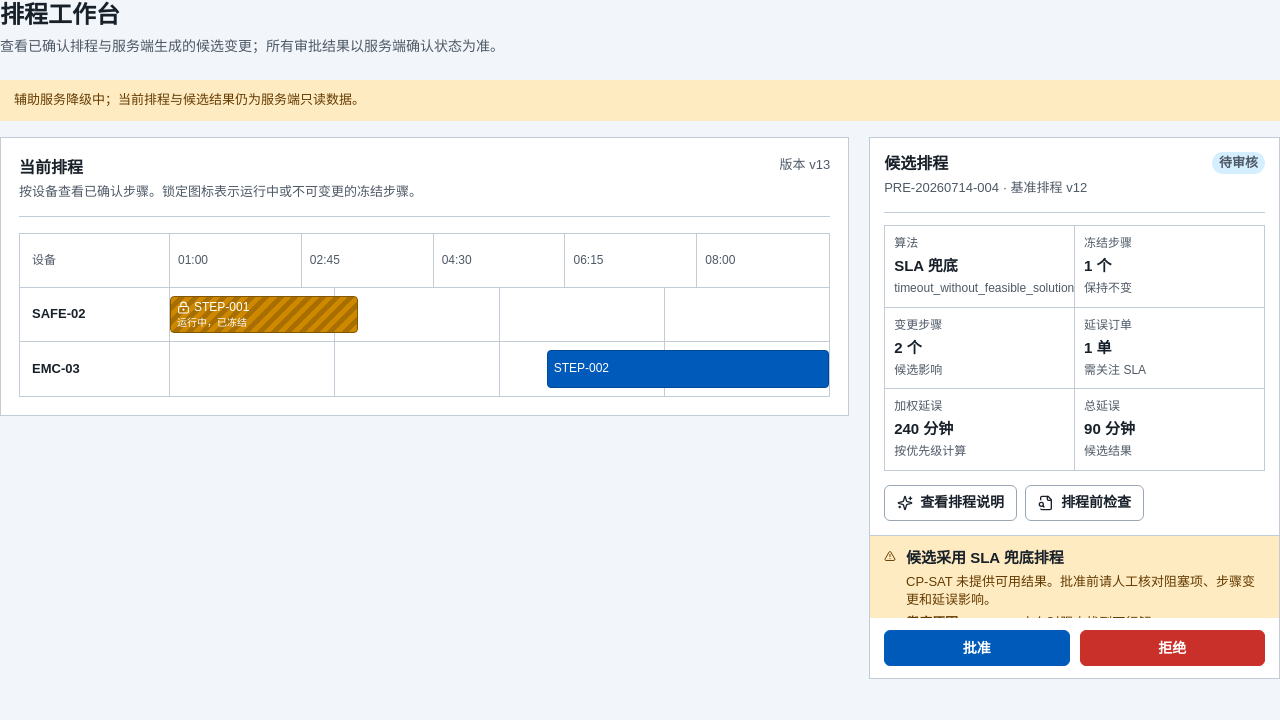
Test: SchedulingPage › keeps reject confirmation modal focus contained and restores the trigger on Escape
Click the button with aria-label "拒绝候选排程": point(1172, 648) [1080,630,1265,666]
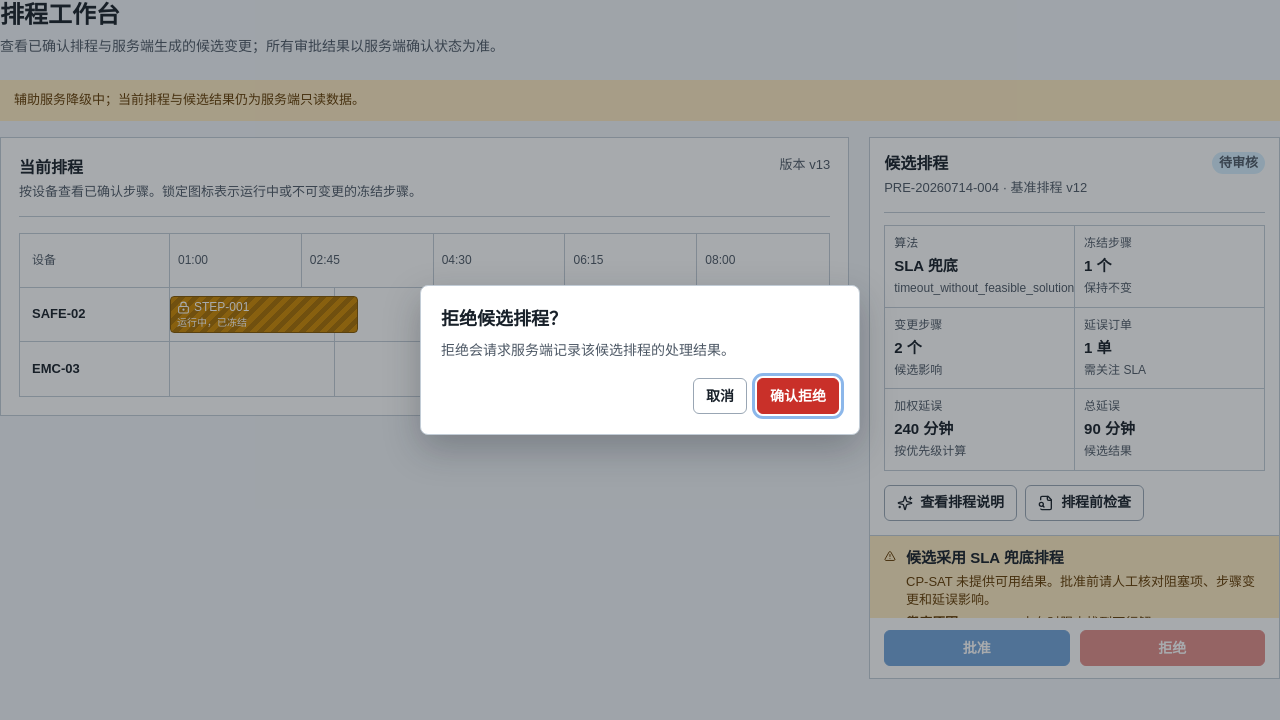
Result: the button with aria-label "批准候选排程" is disabled at [884,630,1070,666]
Press Tab in the dialog, box [420,285,860,435]
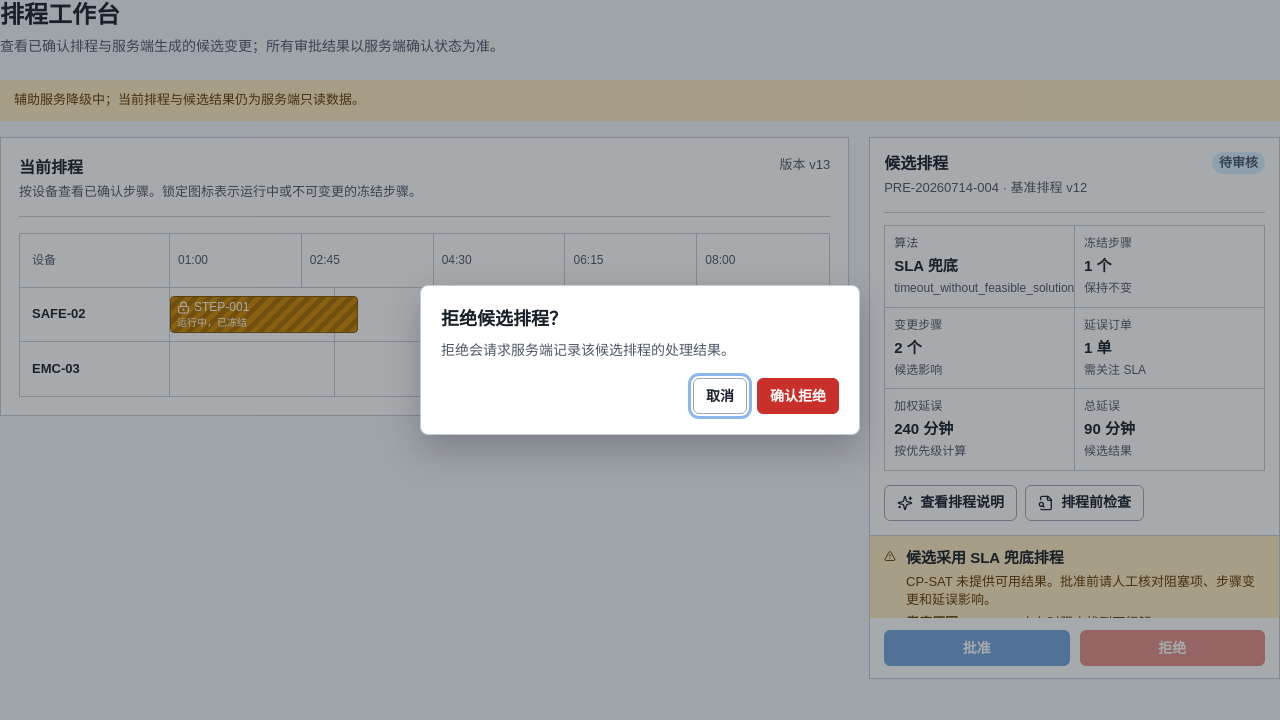
Press Tab in the dialog, box [420,285,860,435]
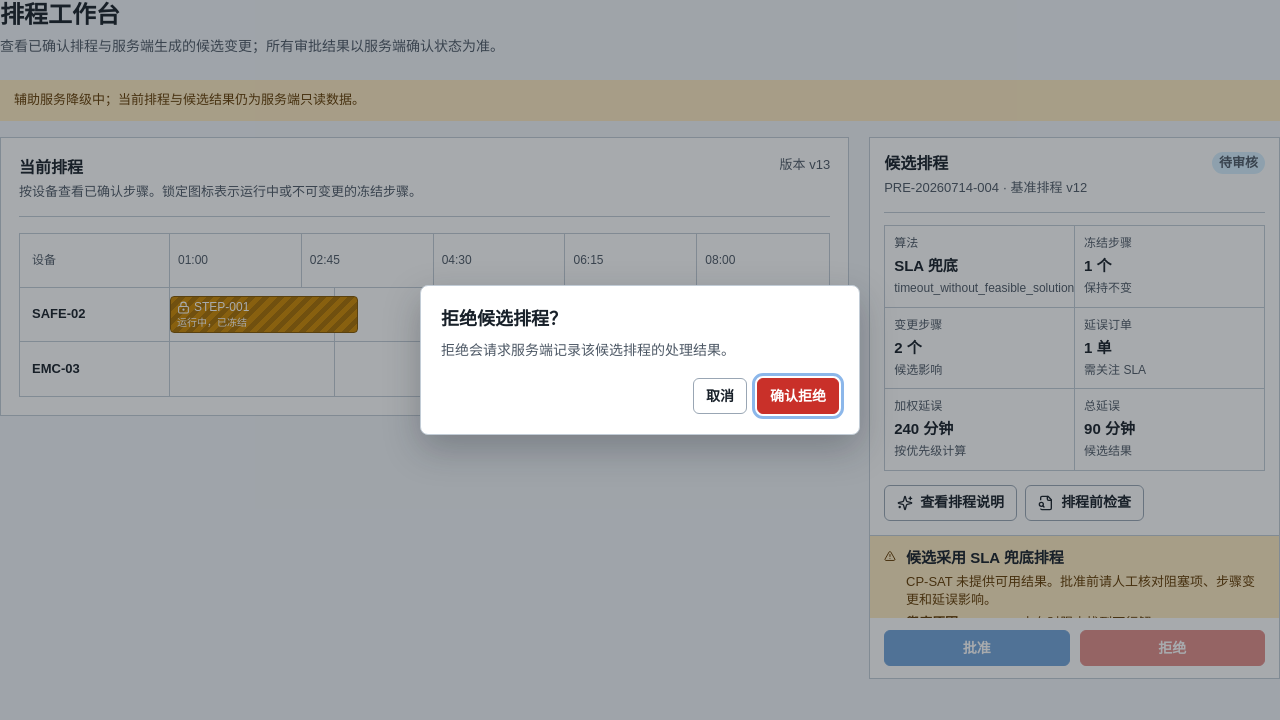
Press Escape in the dialog, box [420,285,860,435]
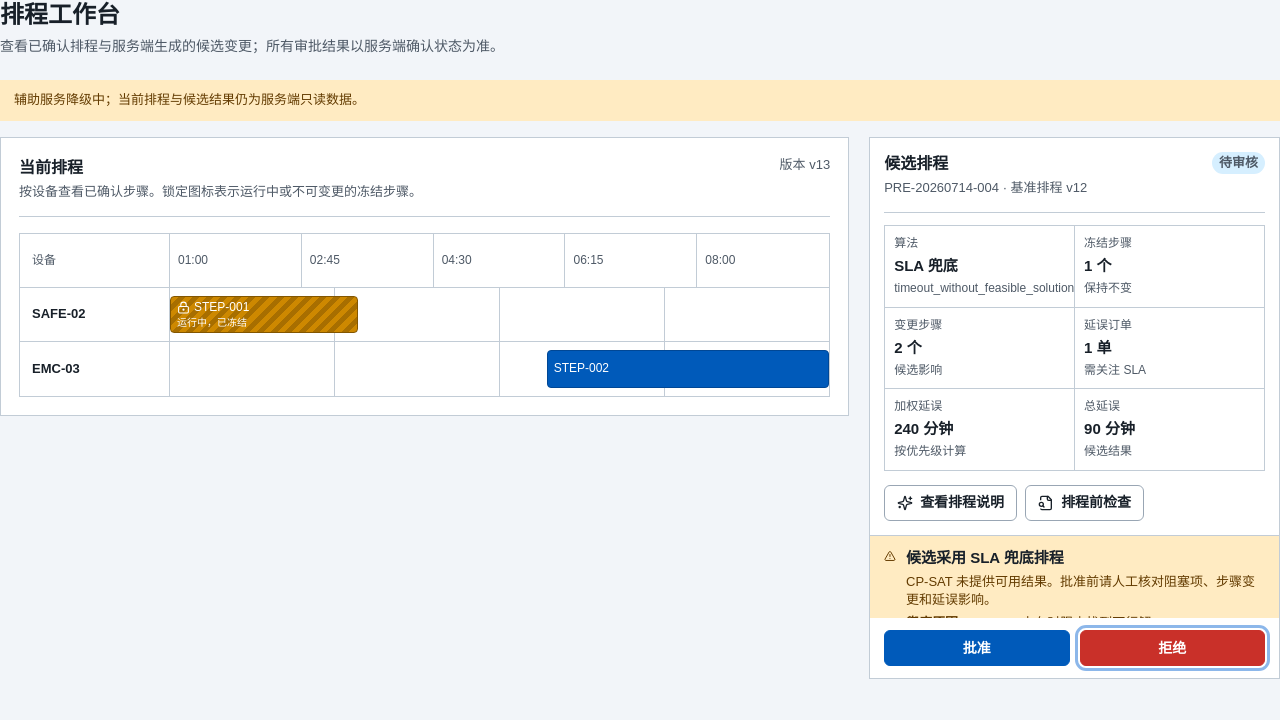
Result: the dialog is gone
